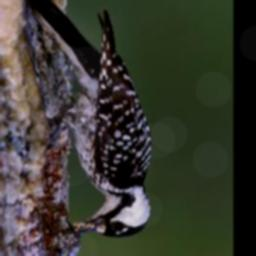Woodpecker: (28, 0, 155, 239)
